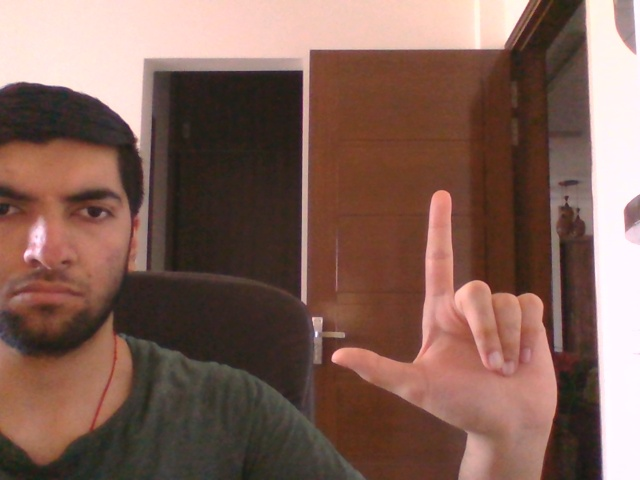LetterL: (330, 189, 559, 440)
